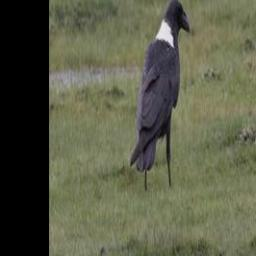Crow: (129, 0, 189, 188)
